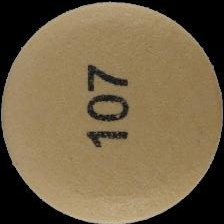61786-816: (0, 0, 224, 224)
